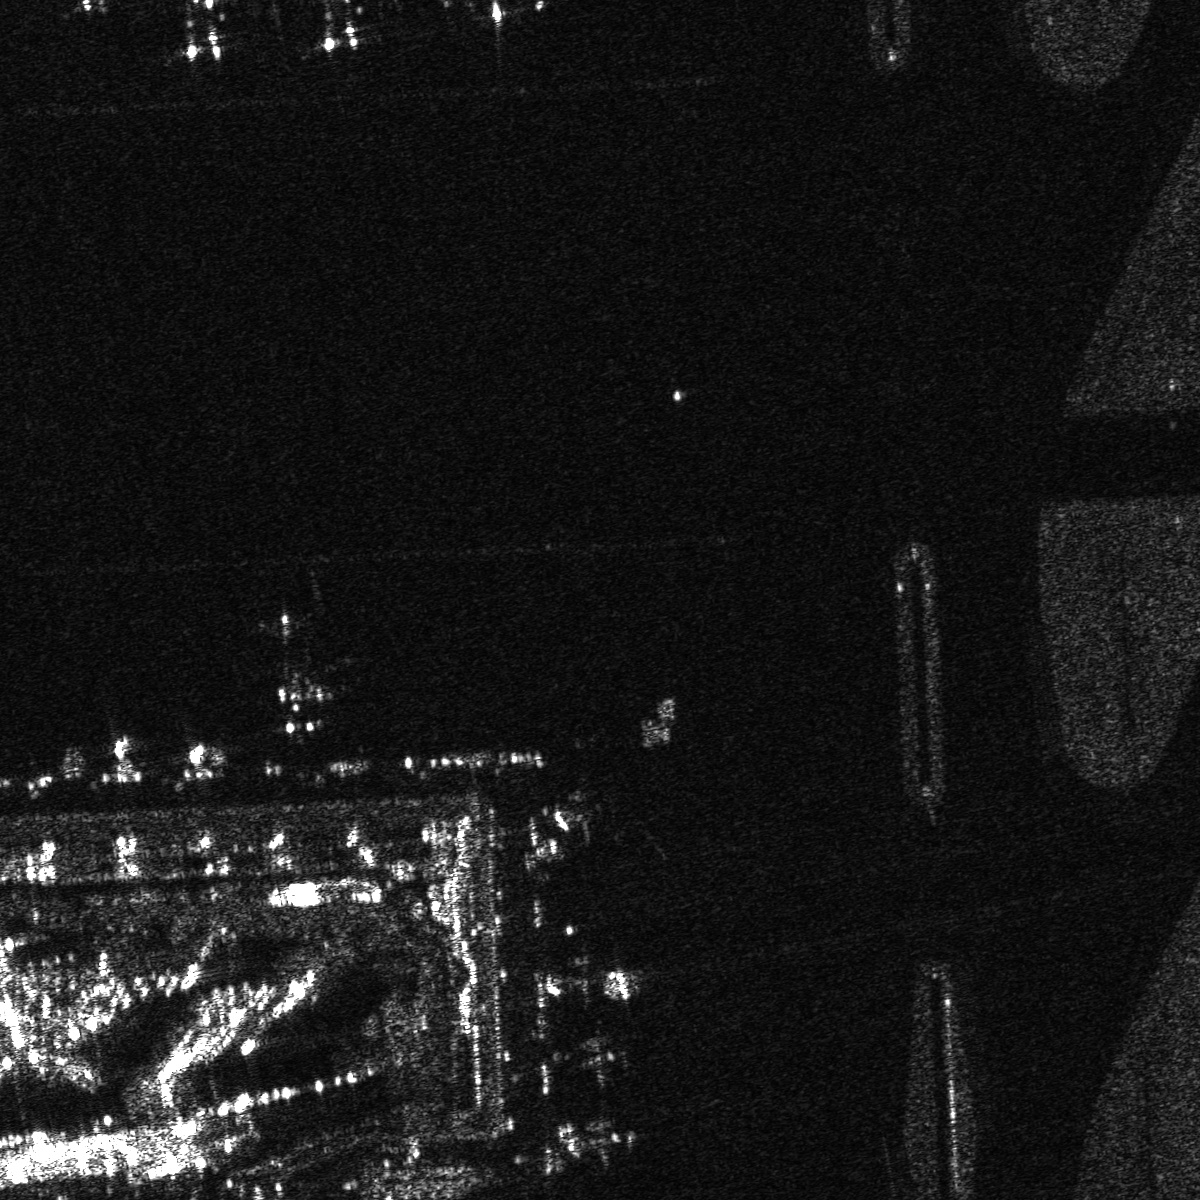A220: (537, 943, 652, 1021), (552, 1108, 648, 1176), (540, 781, 622, 851), (558, 1029, 637, 1095)
Boeing787: (262, 668, 343, 749)
